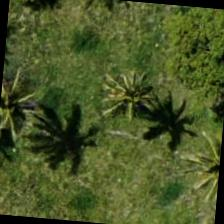Kelapa_Sawit: (86, 50, 184, 148), (0, 62, 71, 158), (170, 114, 223, 209)
